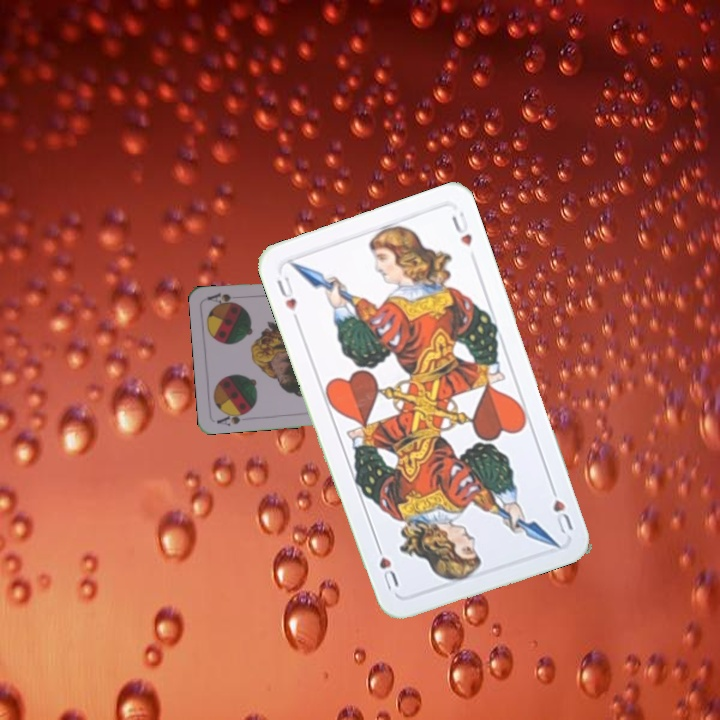HU: (546, 480, 576, 536), (272, 272, 302, 325)
SA: (213, 407, 252, 428)
